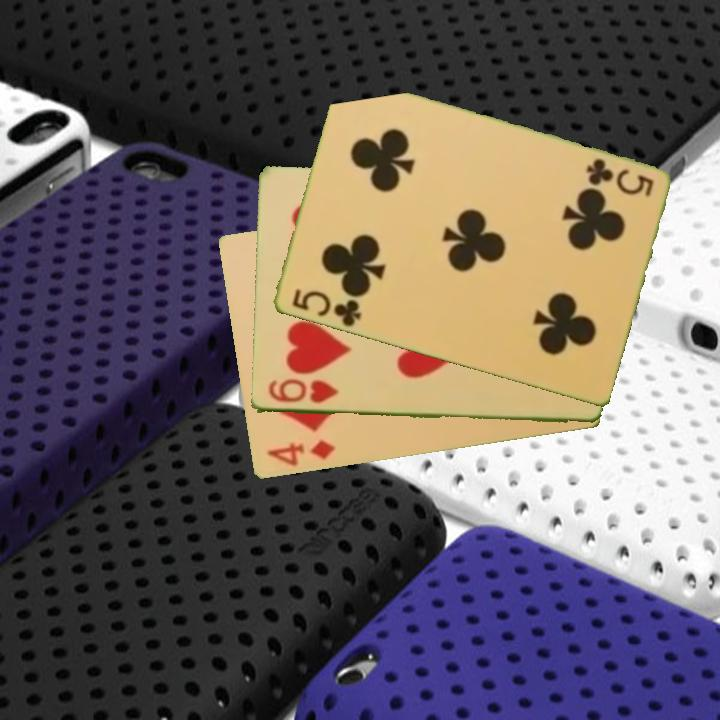4d: (263, 436, 337, 470)
5c: (288, 285, 364, 330), (582, 155, 656, 200)
6h: (265, 376, 341, 407)
